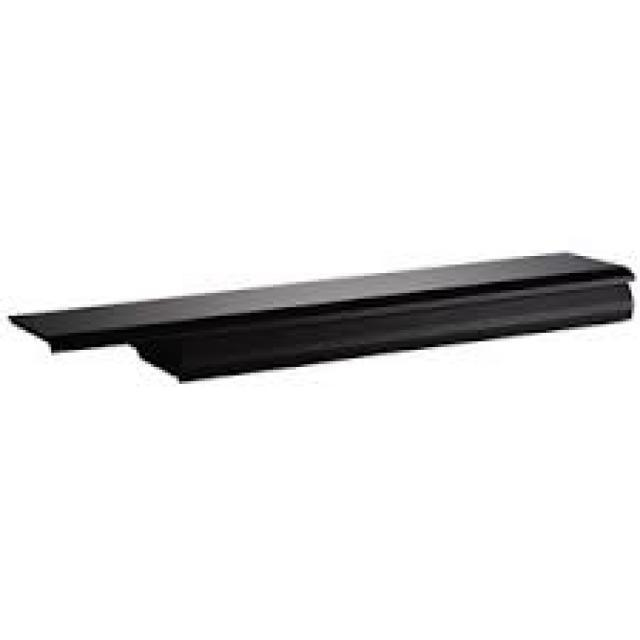battery: (9, 251, 640, 385)
